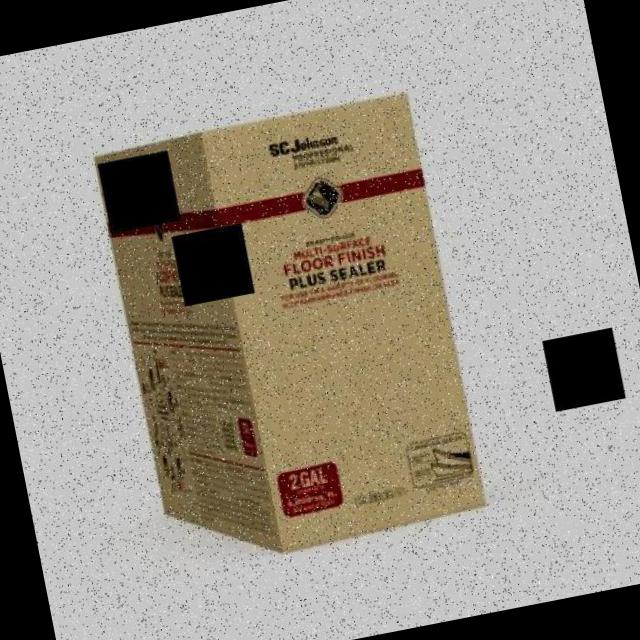box: (83, 70, 508, 591)
